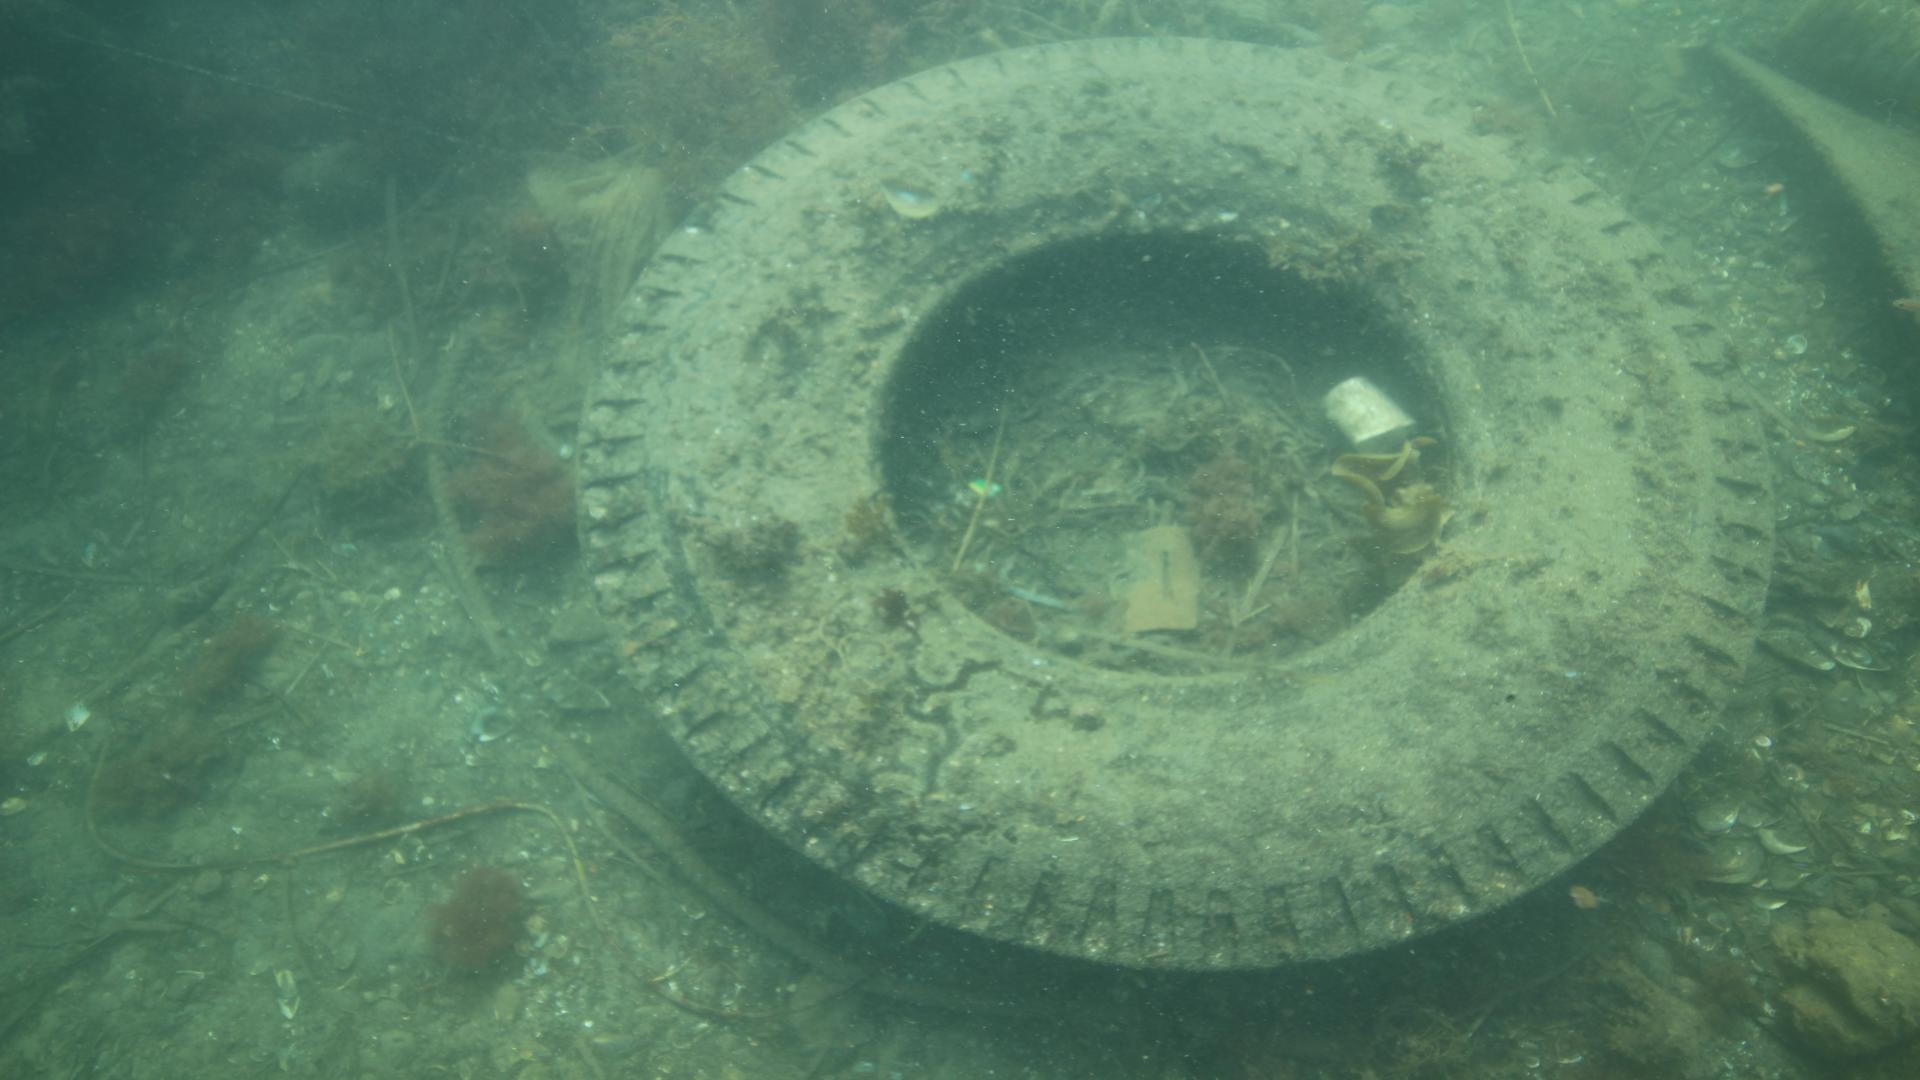rope: (421, 328, 1120, 1021)
tire: (570, 37, 1779, 975)
